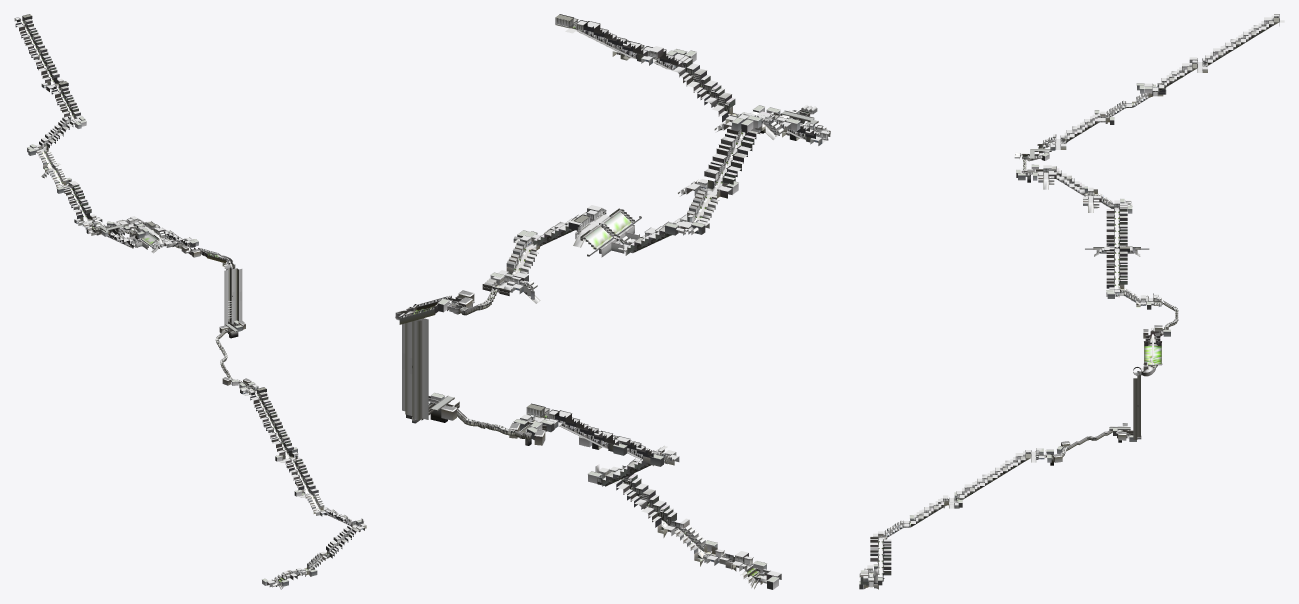
3 renders of one model, left to right at view 1: azimuth 30°, elevation 25°; view 2: azimuth 150°, elevation 25°; view 3: azimuth 270°, elevation 25°, orthographic. The views are drawn at different scales.
Visible parts, largest first — view 1: no part large enough to name; view 2: object_00D2D5C4, object_00CE3408; view 3: no part large enough to name.
Part boxes in pixels (left/top/right/bottom): object_00D2D5C4: left=415, top=377, right=428, bottom=420; object_00CE3408: left=415, top=319, right=428, bottom=362.
Bounding box in the file's own units: 1100900 × 2247600 × 1674150.
